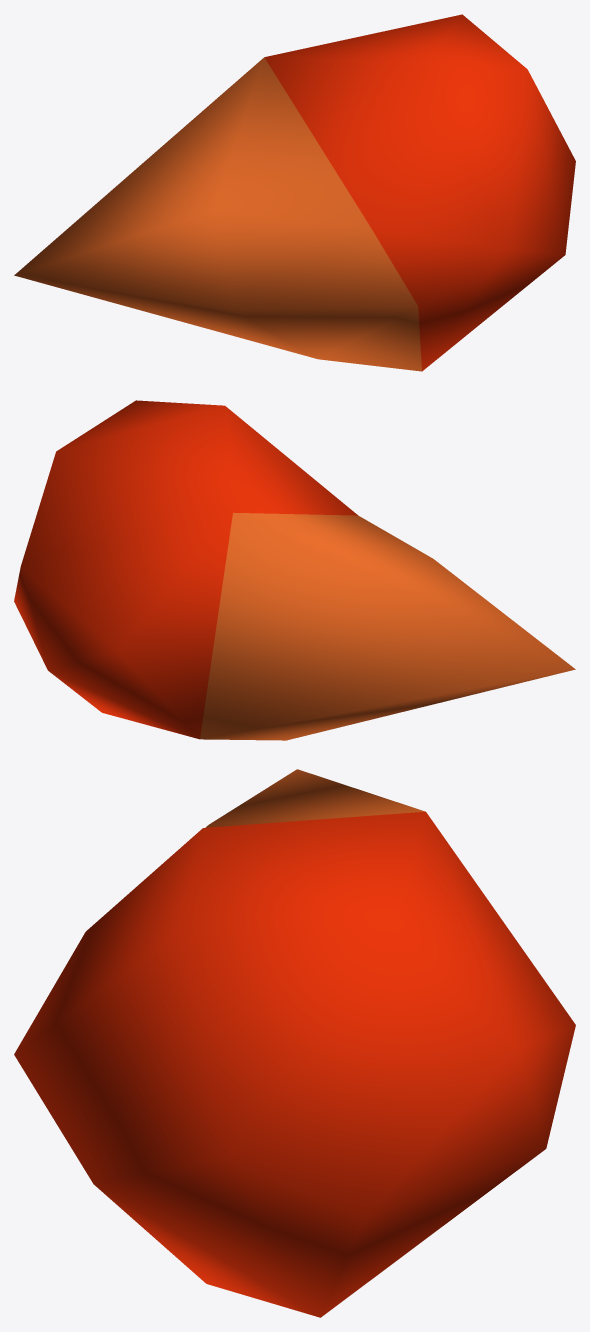
File: Patr tower 4.fbx
3 views of the same model, one above another, from view 1: azimuth 30°, elevation 25°; view 2: azimuth 150°, elevation 25°; view 3: azimuth 270°, elevation 25° (orthographic). The views are drawn at different scales.
Parts seen in each view (by area): view 1: Patr tower 4; view 2: Patr tower 4; view 3: Patr tower 4.
Part boxes in pixels (<box>): Patr tower 4: <box>14,14,575,371</box>; Patr tower 4: <box>14,400,575,740</box>; Patr tower 4: <box>14,769,575,1317</box>.
Size of the model in its own units: 0.5484 by 0.3366 by 0.3015.
